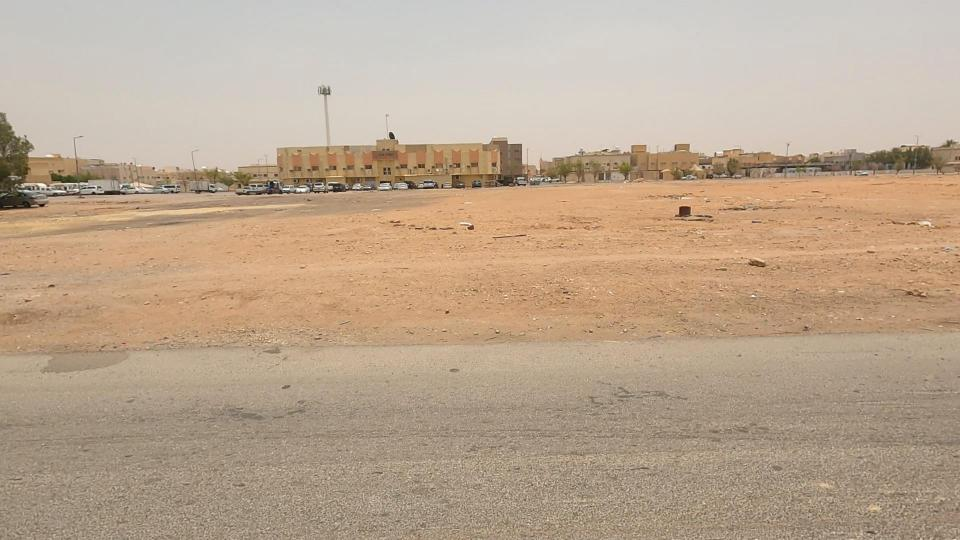GARBAGE: (419, 200, 528, 257), (898, 215, 955, 248), (659, 198, 707, 223)
